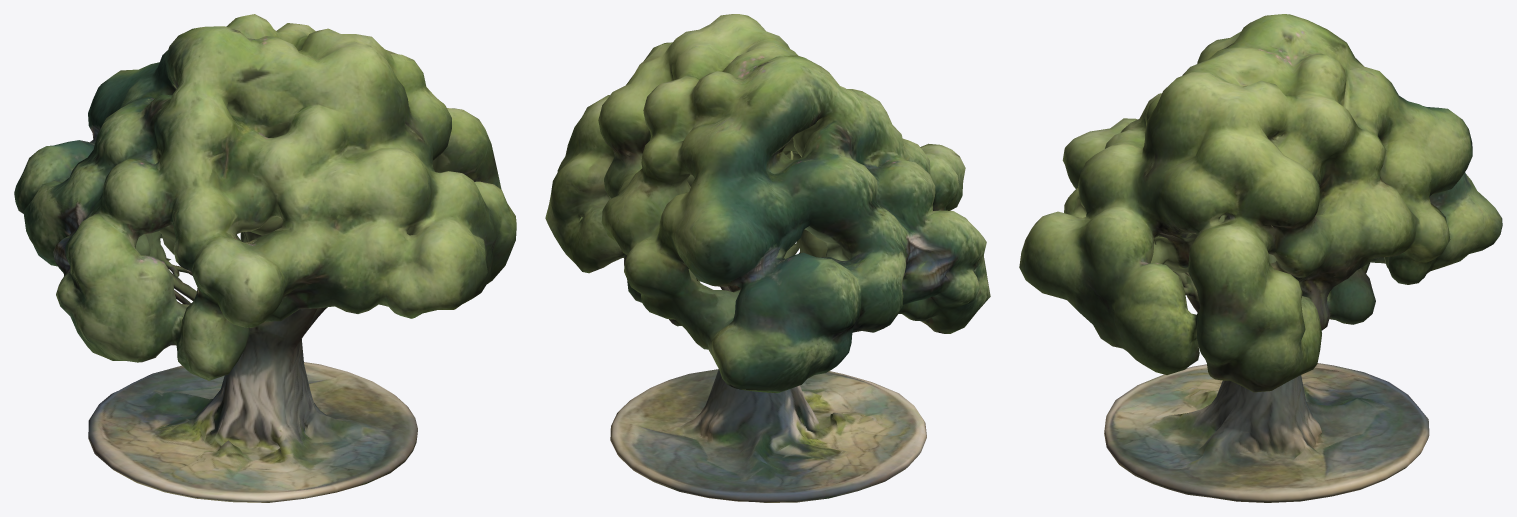
The model's file is tree_oka_04.fbx.
3 views of the same model, side by side, from view 1: azimuth 30°, elevation 25°; view 2: azimuth 150°, elevation 25°; view 3: azimuth 270°, elevation 25° (orthographic). The views are drawn at different scales.
Parts seen in each view (by area): view 1: OakTree_03; view 2: OakTree_03; view 3: OakTree_03.
Part boxes in pixels (x1,y1,x2,y2): OakTree_03: [14, 14, 516, 502]; OakTree_03: [545, 14, 990, 502]; OakTree_03: [1019, 14, 1502, 502].
Size of the model in its own units: 1031 by 946 by 1007.
1 material, 1 textured.
